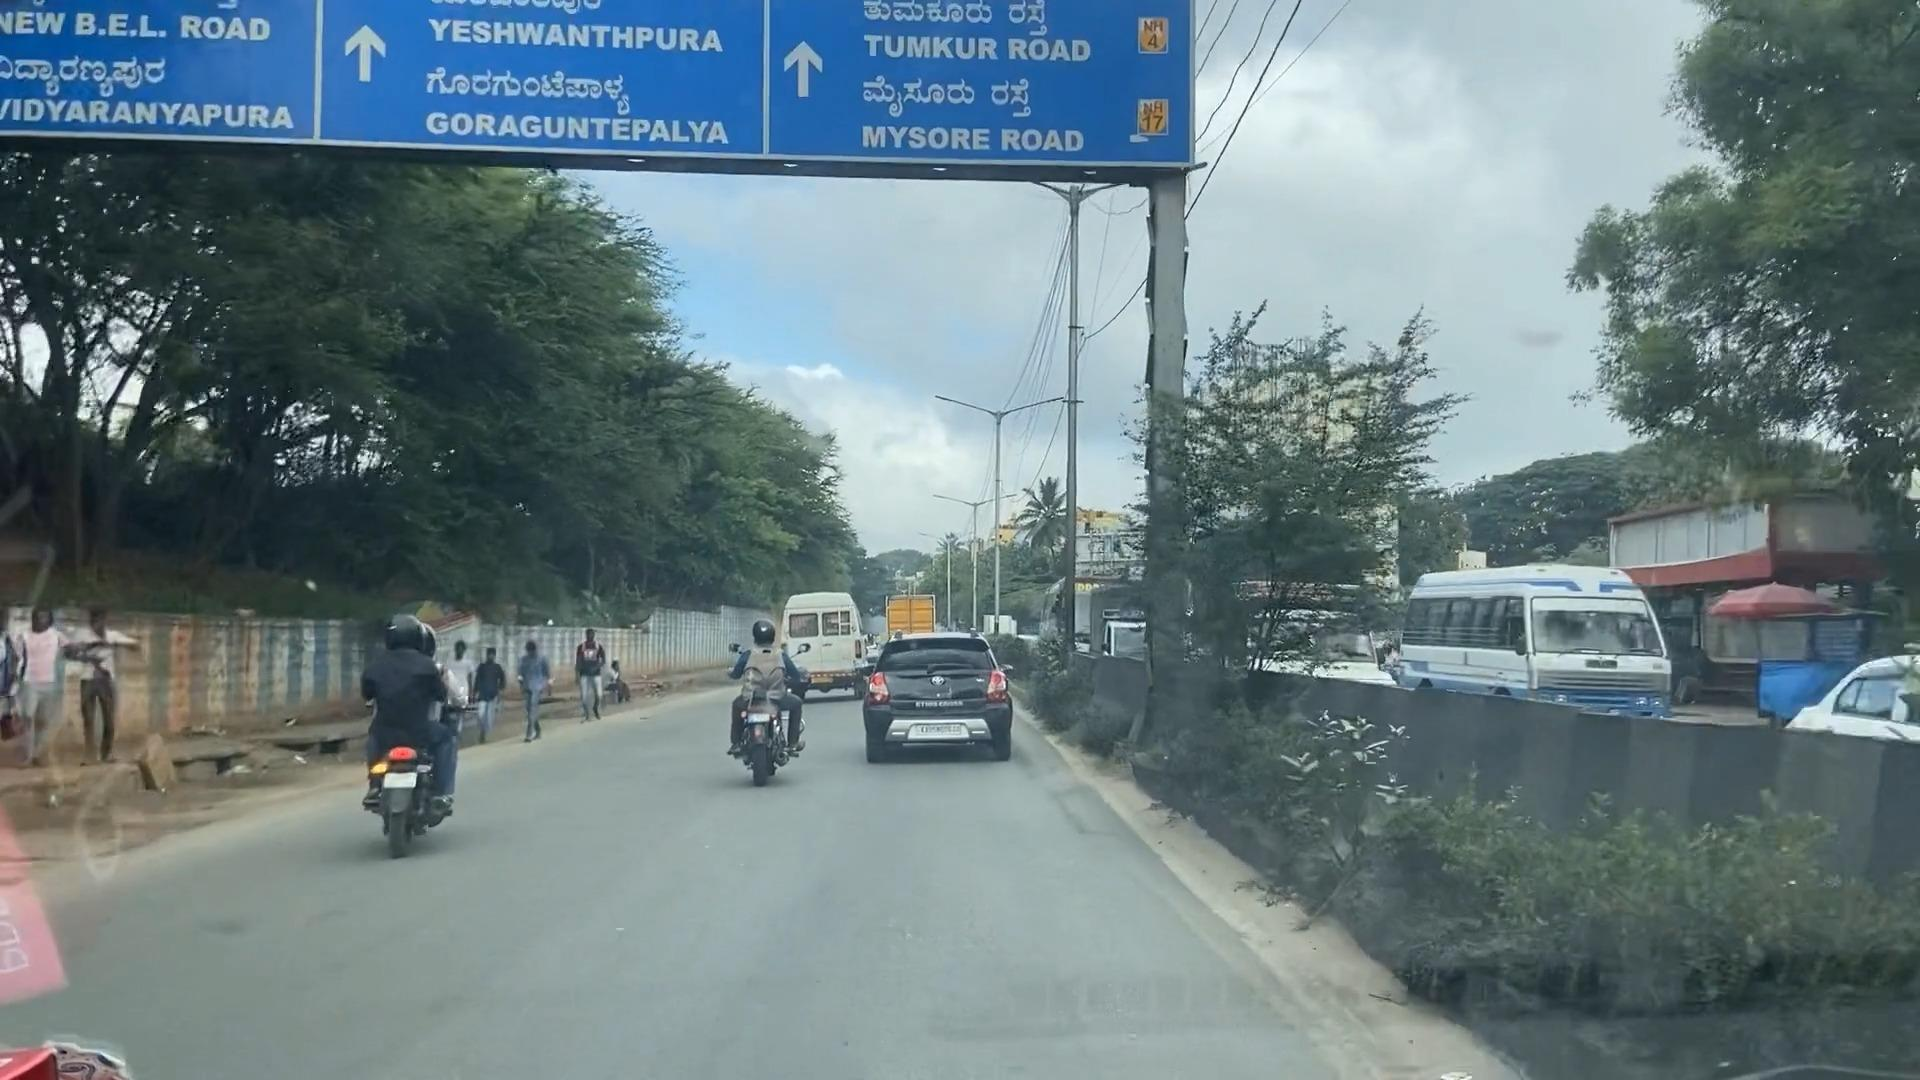LMV: (361, 621, 467, 848), (874, 625, 1011, 764), (728, 615, 800, 783)
